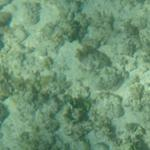dead: (11, 8, 147, 145)
